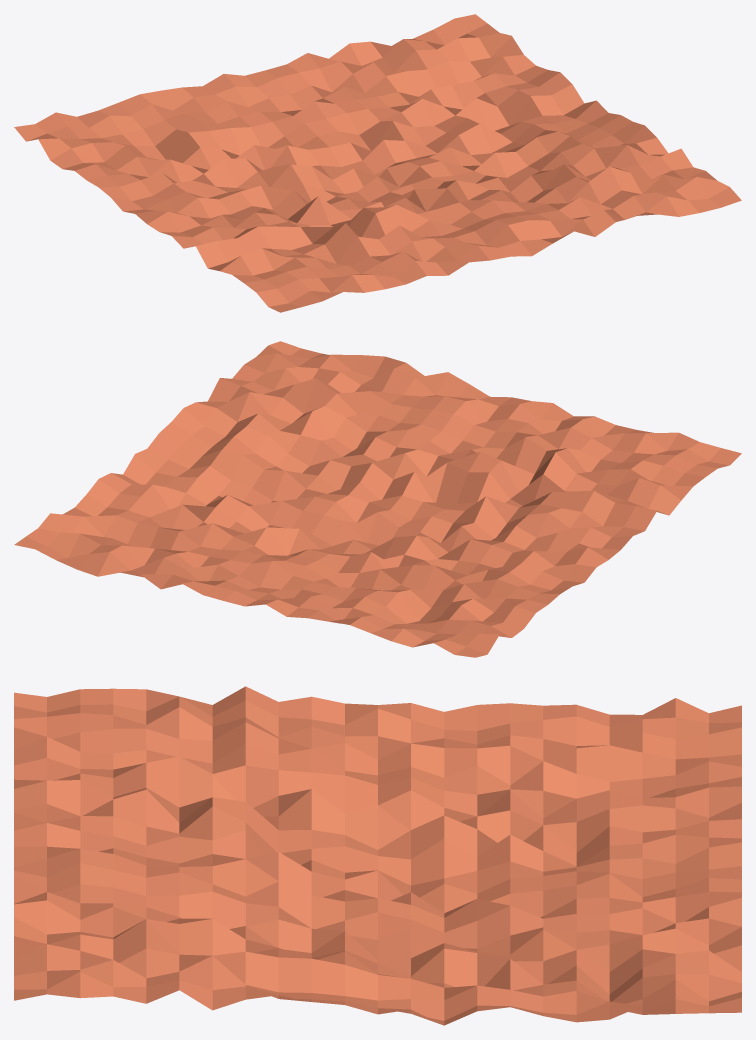
File: background.glb
3 views of the same model, one above another, from view 1: azimuth 30°, elevation 25°; view 2: azimuth 150°, elevation 25°; view 3: azimuth 270°, elevation 25° (orthographic). The views are drawn at different scales.
Parts seen in each view (by area): view 1: Plane; view 2: Plane; view 3: Plane.
Part boxes in pixels (x1=…): Plane: x1=14, y1=14, x2=741, y2=312; Plane: x1=14, y1=341, x2=741, y2=657; Plane: x1=14, y1=686, x2=741, y2=1025.
Size of the model in its own units: 2 by 0.2472 by 2.
